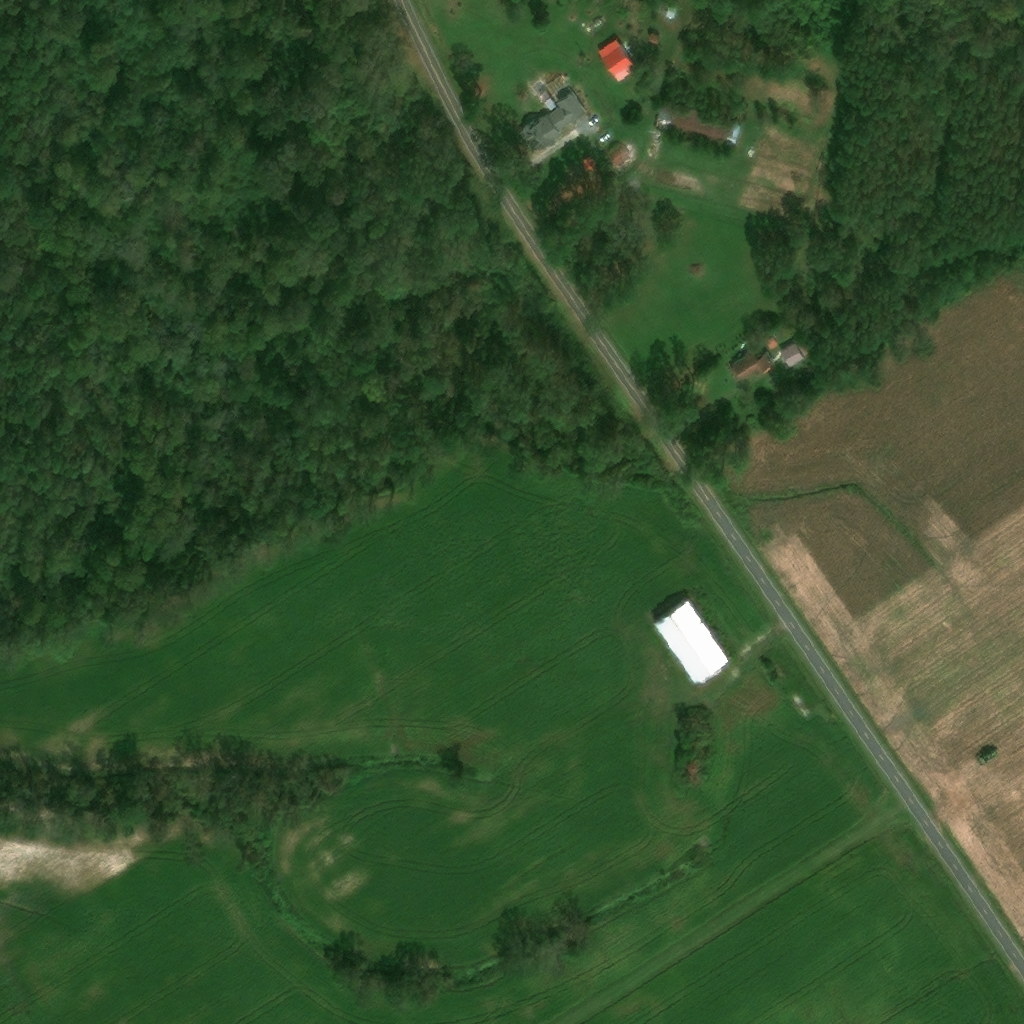unclassified: (648, 595, 728, 682), (518, 89, 586, 155), (653, 102, 741, 146), (724, 347, 772, 384), (593, 37, 629, 83), (776, 340, 803, 369), (608, 145, 632, 168), (757, 330, 777, 351), (579, 155, 594, 170), (644, 31, 657, 44), (589, 18, 599, 27)
